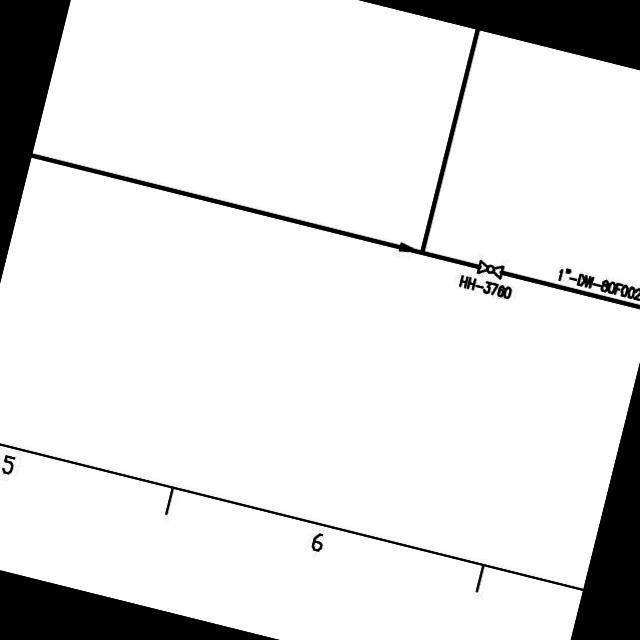BV2: (470, 256, 510, 284)
